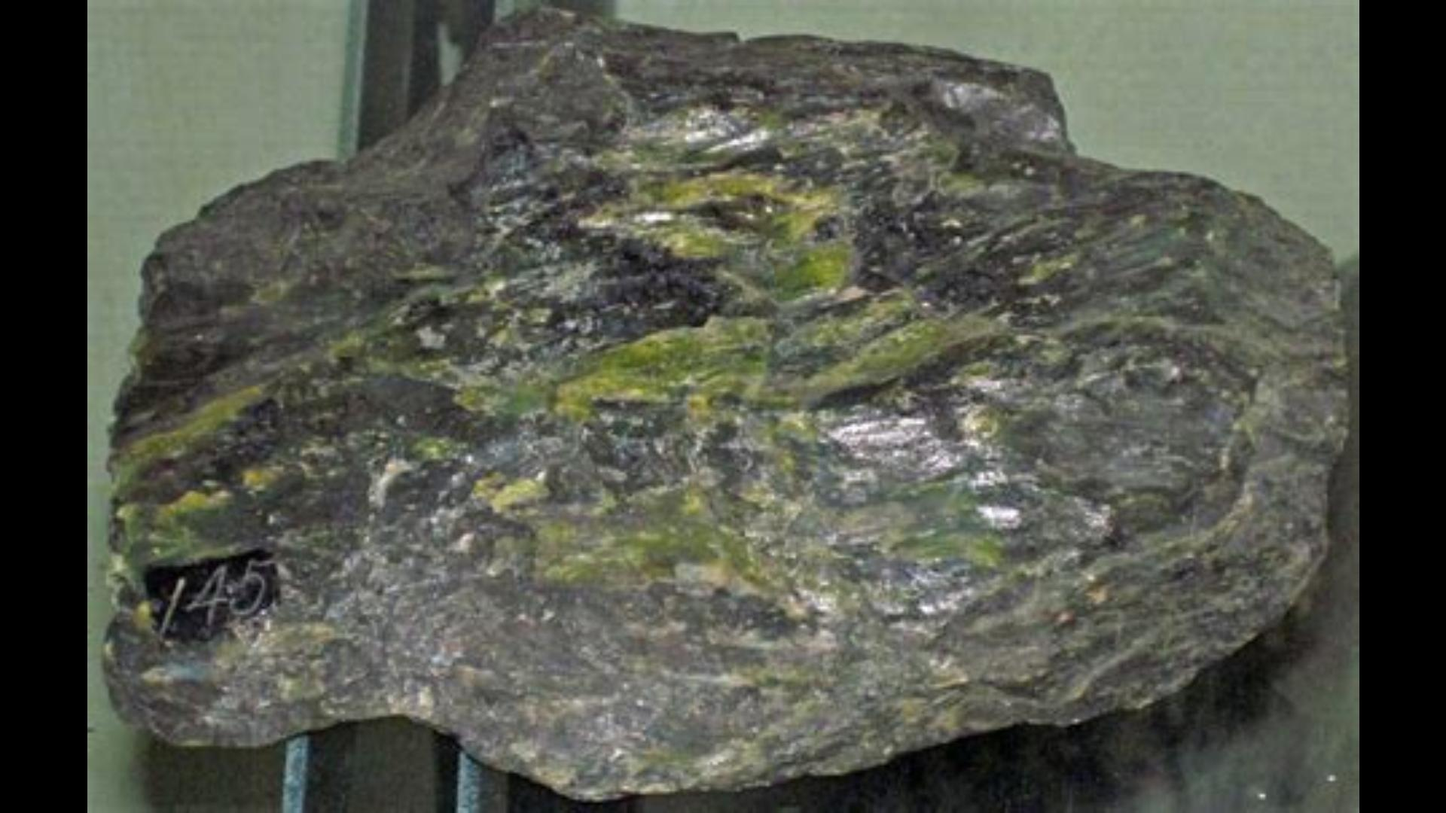rock: (105, 11, 1324, 794)
